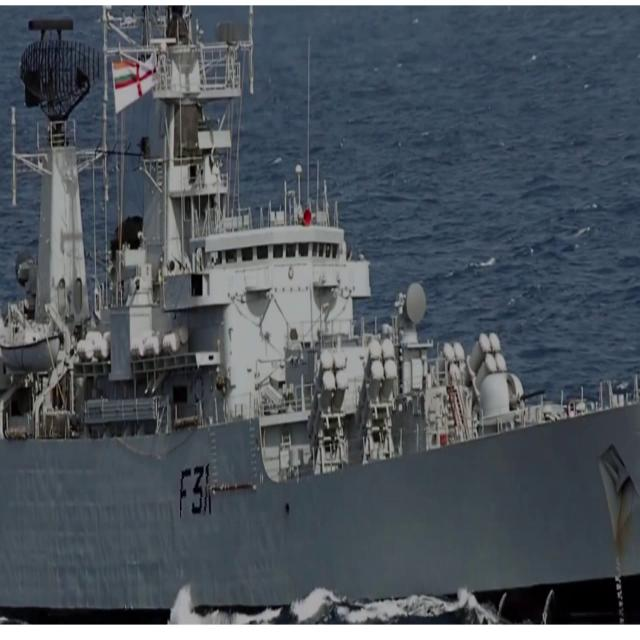OCR: (180, 463, 212, 523)
